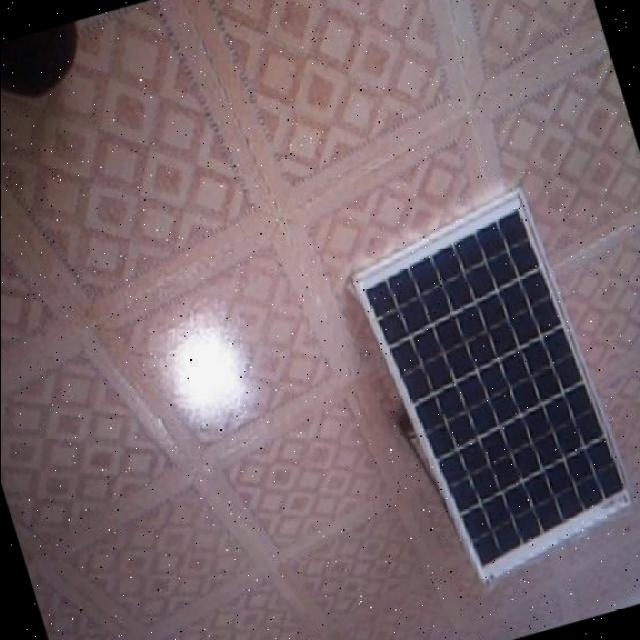Normal Solar Panel: (346, 184, 640, 600)
